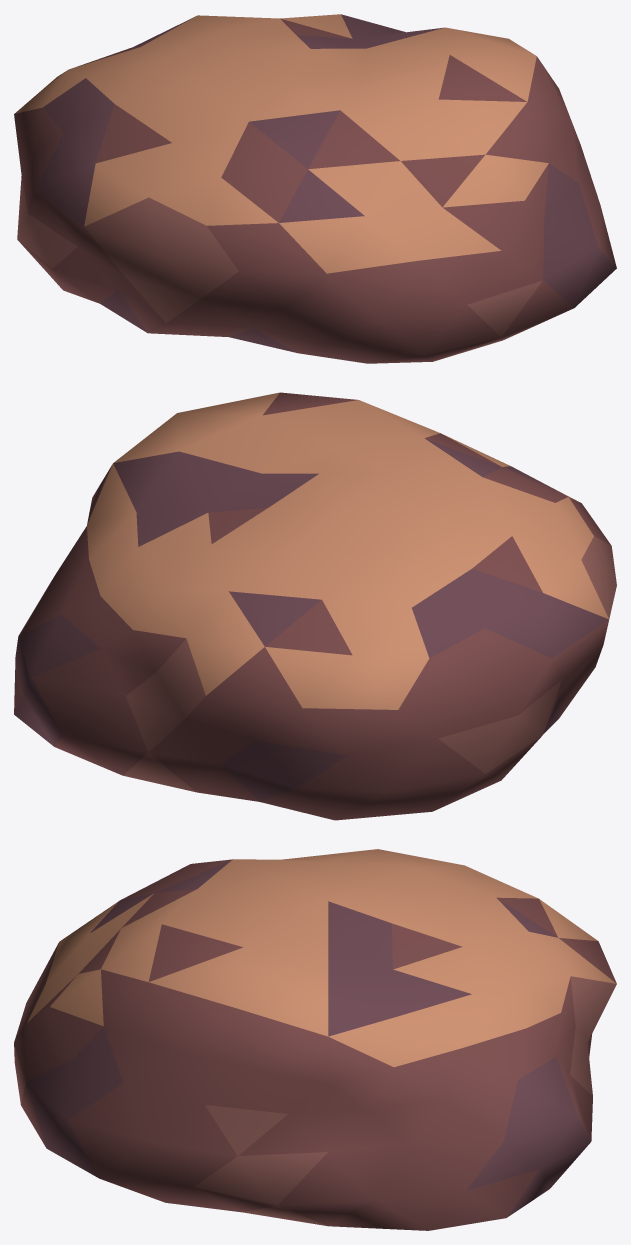
File: rock_5.glb
3 renders of one model, top to bottom at view 1: azimuth 30°, elevation 25°; view 2: azimuth 150°, elevation 25°; view 3: azimuth 270°, elevation 25°, orthographic. The views are drawn at different scales.
Parts seen in each view (by area): view 1: rock_5; view 2: rock_5; view 3: rock_5.
Part boxes in pixels (bbox=[...]): rock_5: bbox=[14, 14, 616, 363]; rock_5: bbox=[14, 392, 616, 820]; rock_5: bbox=[14, 849, 616, 1230].
Size of the model in its own units: 2.08 by 0.8689 by 2.17.
